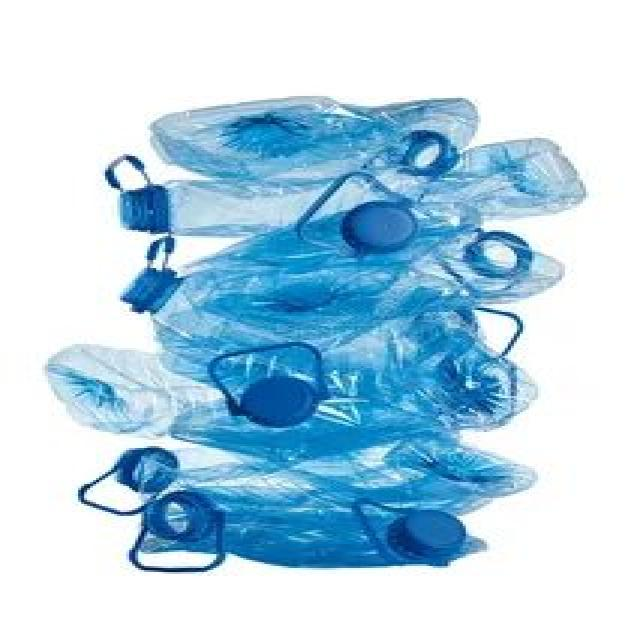blue: (116, 139, 586, 236), (152, 94, 481, 180), (172, 386, 447, 461)
